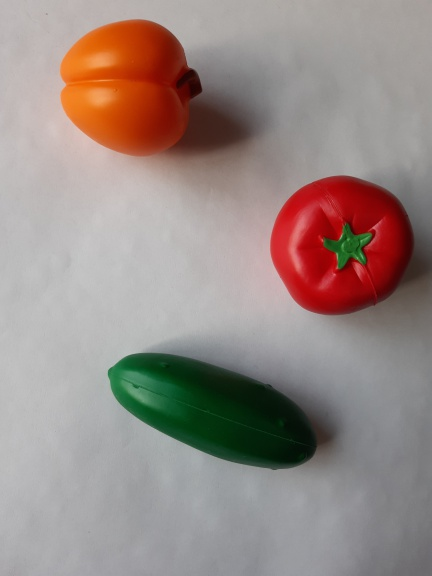apricot: (53, 12, 212, 167)
cucumber: (100, 345, 327, 481)
tomato: (264, 171, 422, 323)
